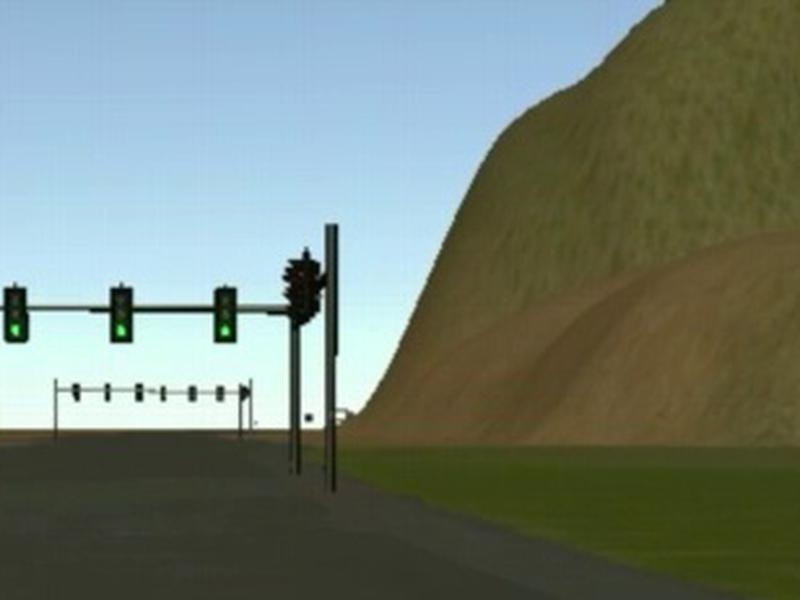Green: (3, 285, 27, 343), (109, 286, 132, 343), (215, 286, 235, 342)
